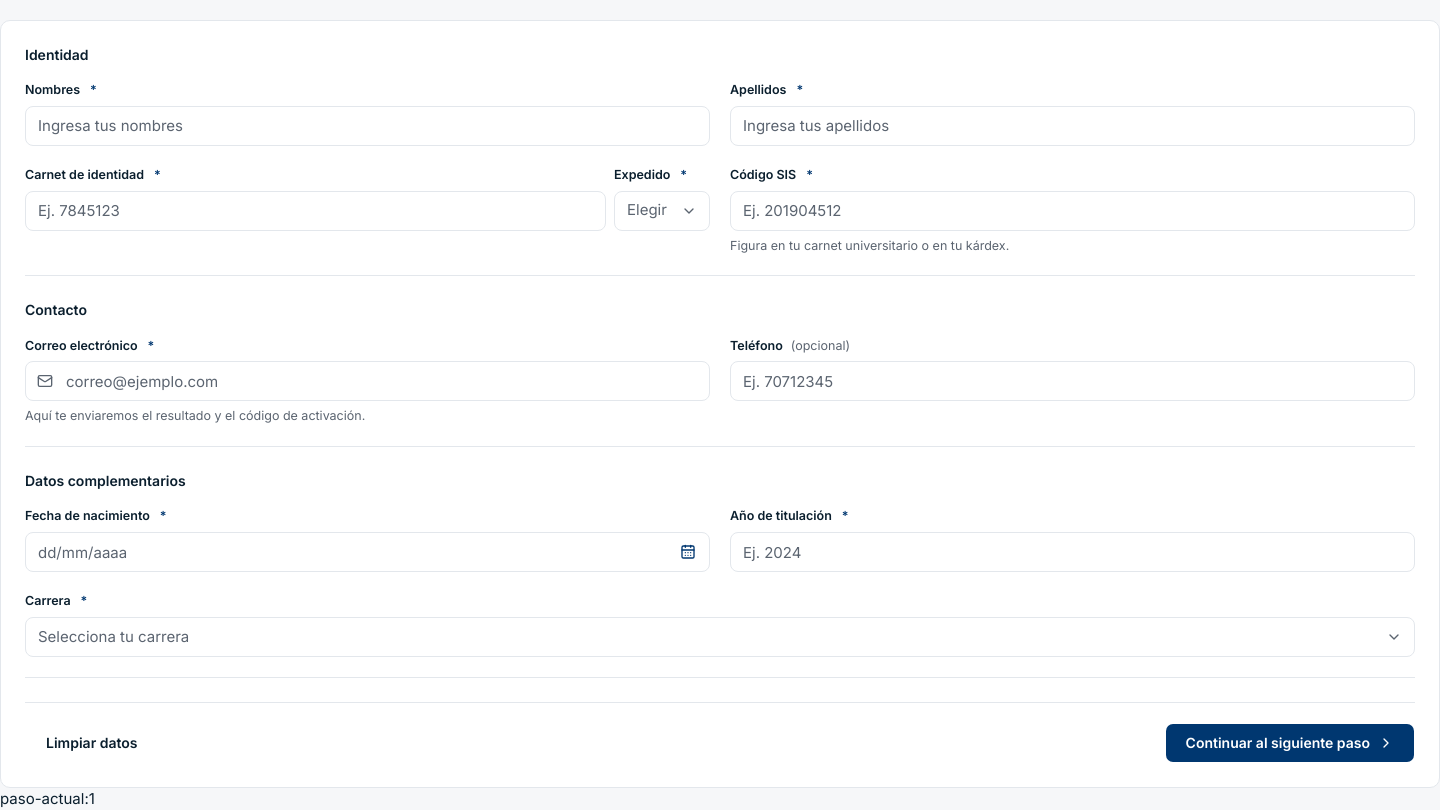
ClearDataDialog › abre un diálogo con el título y la descripción corta cuando no hay borrador
The image size is (1440, 810).
(page scrolled)
Click the button "Limpiar datos": click(92, 743) [25,723,158,763]
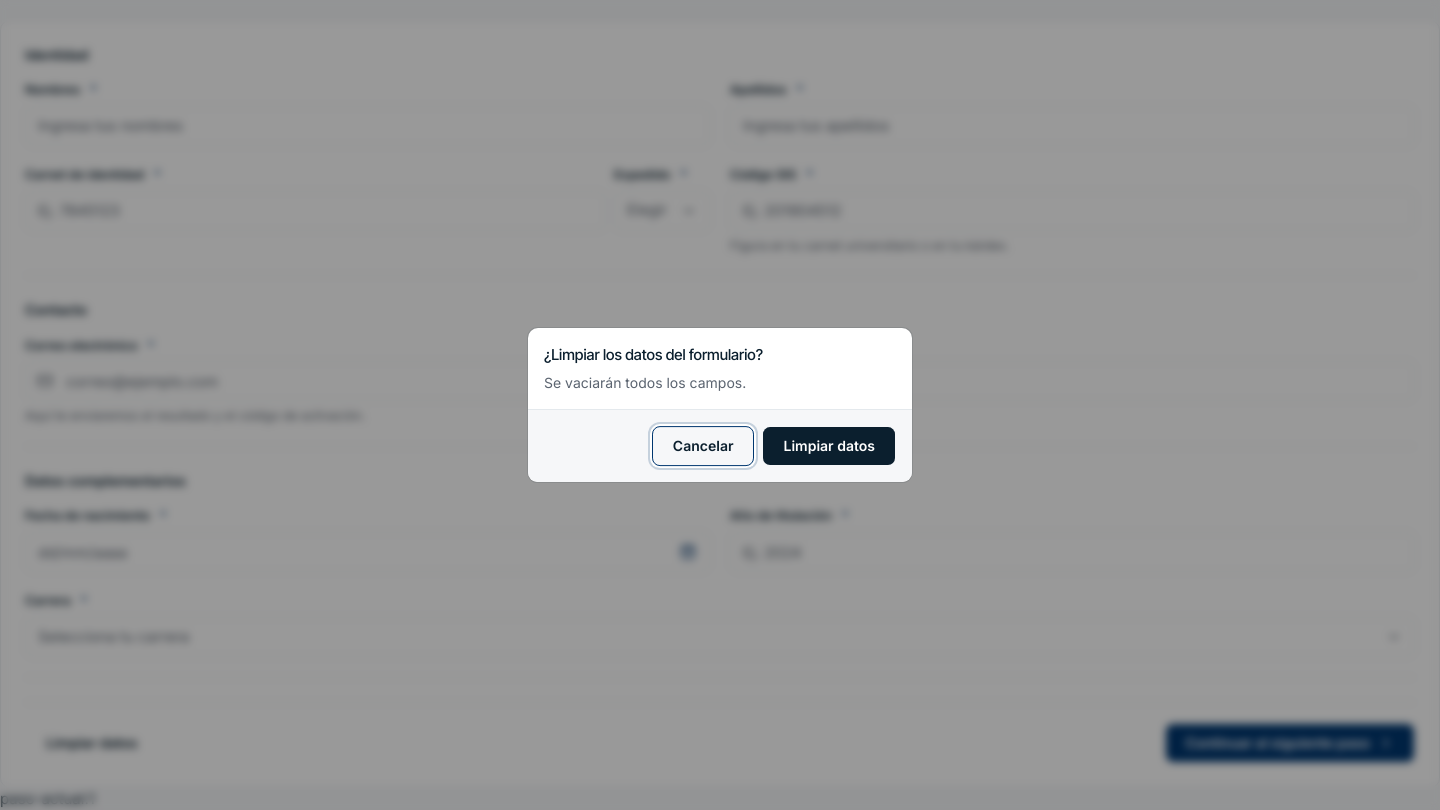
Result: the heading "¿Limpiar los datos del formulario?" is shown at [544,344,763,367]
Result: the text "Se vaciarán todos los campos." is shown at [544,373,746,393]
Result: the button "Cancelar" is shown at [652,426,754,466]
